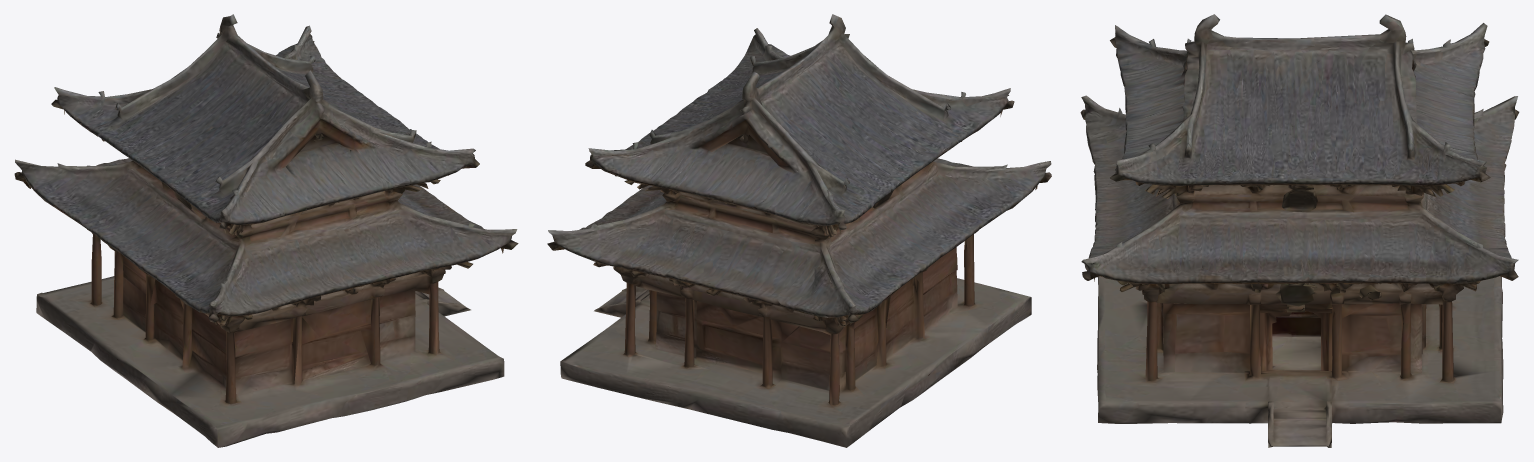
Rendered from building-zhenguosi.glb.
The picture shows the model from 3 angles, left to right: view 1: azimuth 30°, elevation 25°; view 2: azimuth 150°, elevation 25°; view 3: azimuth 270°, elevation 25°; orthographic projection. The views are drawn at different scales.
Visible parts, largest first — view 1: node_2fd4bc81-565a-45b5-ba20-58be510ce18a; view 2: node_2fd4bc81-565a-45b5-ba20-58be510ce18a; view 3: node_2fd4bc81-565a-45b5-ba20-58be510ce18a.
Boxes of the visible parts, box(x1,y1,x2,y2) form: node_2fd4bc81-565a-45b5-ba20-58be510ce18a: box(14, 14, 518, 447); node_2fd4bc81-565a-45b5-ba20-58be510ce18a: box(547, 14, 1051, 447); node_2fd4bc81-565a-45b5-ba20-58be510ce18a: box(1080, 14, 1519, 447).
Size of the model in its own units: 1 by 0.852 by 0.9948.
Materials: 1 (1 with a texture image).
